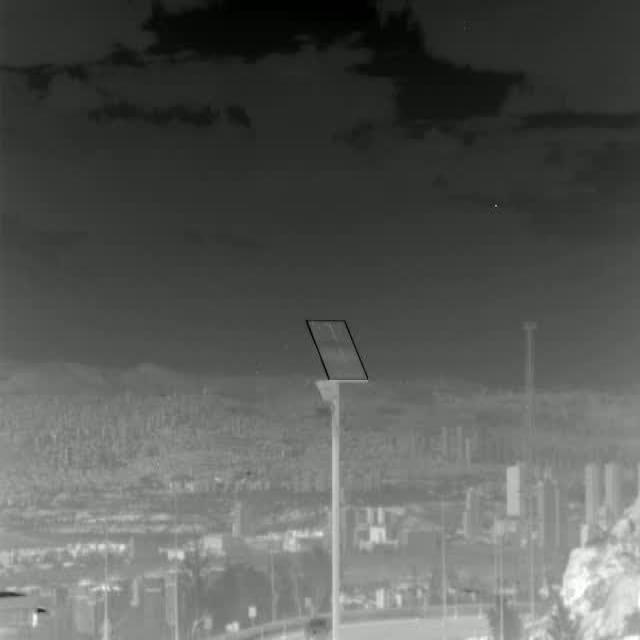Car: (304, 616, 332, 640)
